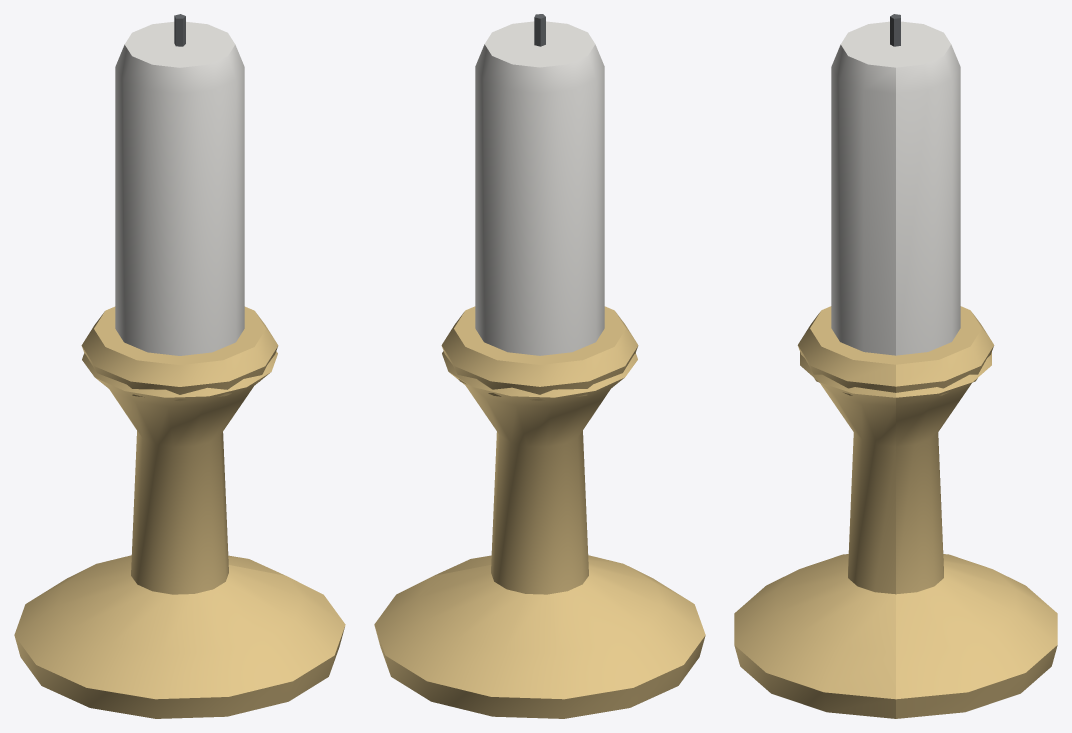
The model's file is restaurant-kitchen-and-dining-candle-holder-c0294da5__16536.glb.
3 views of the same model, side by side, from view 1: azimuth 30°, elevation 25°; view 2: azimuth 150°, elevation 25°; view 3: azimuth 270°, elevation 25° (orthographic).
Parts seen in each view (by area): view 1: candle-holder; view 2: candle-holder; view 3: candle-holder.
Boxes of the visible parts, x1,y1,x2,y2 form: candle-holder: [14, 14, 345, 718]; candle-holder: [374, 14, 705, 718]; candle-holder: [734, 14, 1057, 718].
Size of the model in its own units: 0.108 by 0.228 by 0.1053.
